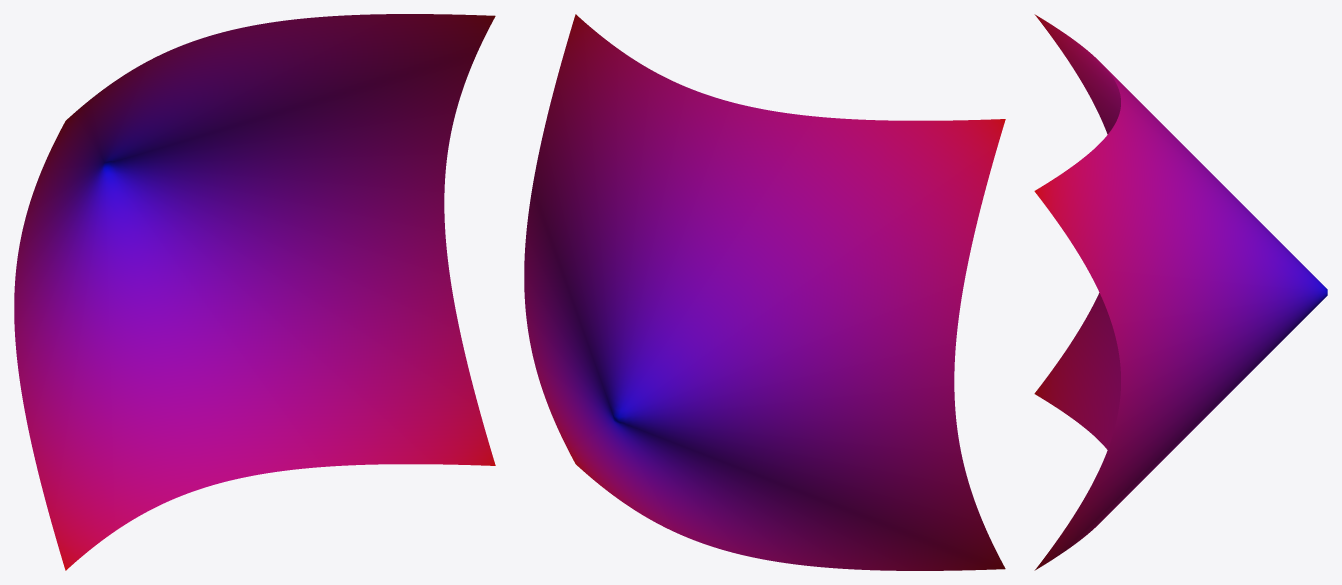
3 renders of one model, left to right at view 1: azimuth 30°, elevation 25°; view 2: azimuth 150°, elevation 25°; view 3: azimuth 270°, elevation 25°, orthographic. The views are drawn at different scales.
Parts seen in each view (by area): view 1: geometry_0; view 2: geometry_0; view 3: geometry_0.
Part boxes in pixels (x1,y1,x2,y2): geometry_0: [14, 14, 495, 570]; geometry_0: [524, 14, 1005, 570]; geometry_0: [1034, 14, 1327, 570].
Size of the model in its own units: 10 by 10 by 7.
